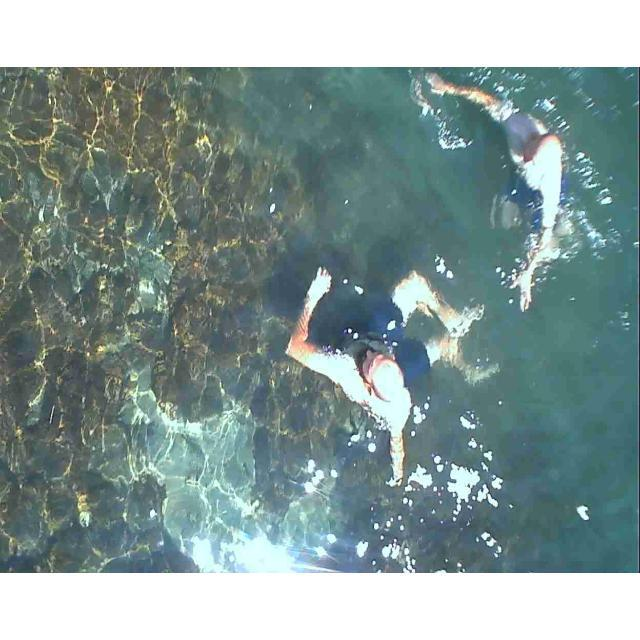human: (448, 67, 608, 290), (301, 262, 448, 476)
